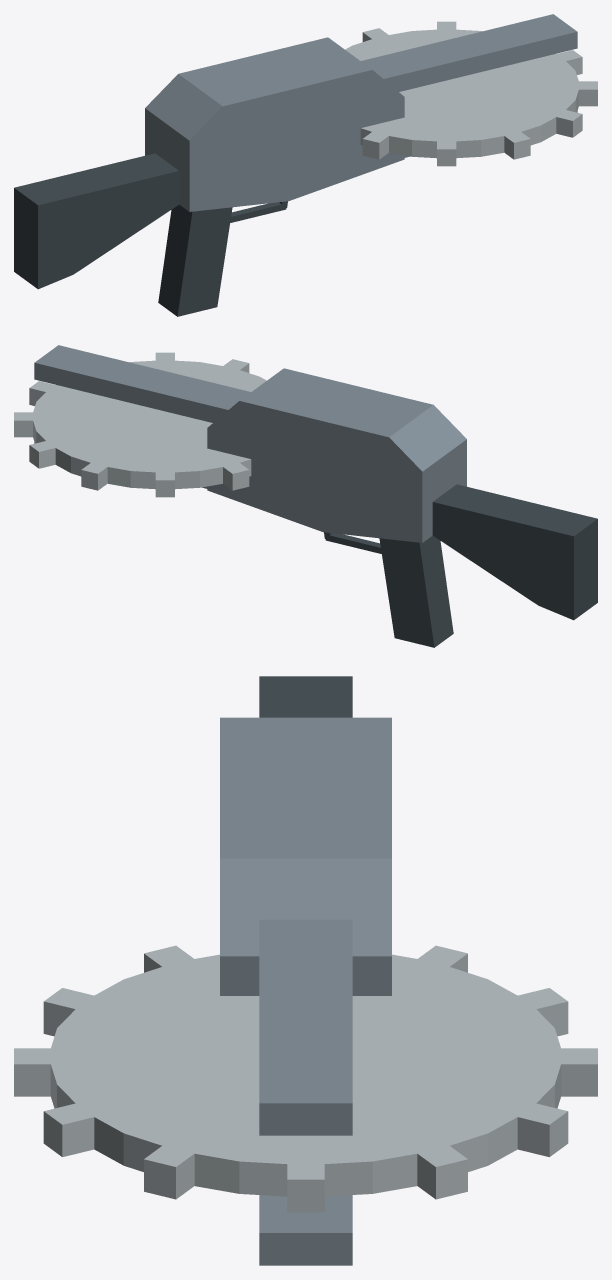
The model's file is w26-ricochet-gospel-static.glb.
The picture shows the model from 3 angles, top to bottom: view 1: azimuth 30°, elevation 25°; view 2: azimuth 150°, elevation 25°; view 3: azimuth 270°, elevation 25°; orthographic projection. The views are drawn at different scales.
Visible parts, largest first — view 1: w26-ricochet-gospel__receiver.001, w26-ricochet-gospel__saw_disc.001, w26-ricochet-gospel__stock.001, w26-ricochet-gospel__disc_guide_0.001, w26-ricochet-gospel__grip.001, w26-ricochet-gospel__saw_tooth_7.001, w26-ricochet-gospel__saw_tooth_10.001, w26-ricochet-gospel__saw_tooth_9.001, w26-ricochet-gospel__guard_bottom.001, w26-ricochet-gospel__saw_tooth_8.001, w26-ricochet-gospel__saw_tooth_11.001; view 2: w26-ricochet-gospel__receiver.001, w26-ricochet-gospel__saw_disc.001, w26-ricochet-gospel__stock.001, w26-ricochet-gospel__disc_guide_0.001, w26-ricochet-gospel__grip.001, w26-ricochet-gospel__saw_tooth_5.001, w26-ricochet-gospel__saw_tooth_3.001, w26-ricochet-gospel__saw_tooth_2.001, w26-ricochet-gospel__guard_bottom.001, w26-ricochet-gospel__saw_tooth_4.001, w26-ricochet-gospel__saw_tooth_1.001, w26-ricochet-gospel__saw_tooth_0.001; view 3: w26-ricochet-gospel__saw_disc.001, w26-ricochet-gospel__receiver.001, w26-ricochet-gospel__disc_guide_0.001, w26-ricochet-gospel__disc_guide_-0.001, w26-ricochet-gospel__stock.001, w26-ricochet-gospel__saw_tooth_1.001, w26-ricochet-gospel__saw_tooth_11.001, w26-ricochet-gospel__saw_tooth_2.001, w26-ricochet-gospel__saw_tooth_10.001, w26-ricochet-gospel__saw_tooth_3.001, w26-ricochet-gospel__saw_tooth_9.001, w26-ricochet-gospel__saw_tooth_0.001 (+4 smaller).
Boxes of the visible parts, <box> form: w26-ricochet-gospel__receiver.001: <box>145,37,404,211</box>; w26-ricochet-gospel__saw_disc.001: <box>345,29,579,158</box>; w26-ricochet-gospel__stock.001: <box>14,153,179,289</box>; w26-ricochet-gospel__disc_guide_0.001: <box>361,14,577,91</box>; w26-ricochet-gospel__grip.001: <box>158,204,232,316</box>; w26-ricochet-gospel__saw_tooth_7.001: <box>362,129,390,159</box>; w26-ricochet-gospel__saw_tooth_10.001: <box>543,110,582,137</box>; w26-ricochet-gospel__saw_tooth_9.001: <box>504,131,530,159</box>; w26-ricochet-gospel__guard_bottom.001: <box>230,202,286,222</box>; w26-ricochet-gospel__saw_tooth_8.001: <box>437,134,456,166</box>; w26-ricochet-gospel__saw_tooth_11.001: <box>579,81,597,106</box>; w26-ricochet-gospel__receiver.001: <box>207,368,466,542</box>; w26-ricochet-gospel__saw_disc.001: <box>32,360,266,489</box>; w26-ricochet-gospel__stock.001: <box>432,484,597,620</box>; w26-ricochet-gospel__disc_guide_0.001: <box>34,345,250,422</box>; w26-ricochet-gospel__grip.001: <box>379,535,453,647</box>; w26-ricochet-gospel__saw_tooth_5.001: <box>222,461,249,490</box>; w26-ricochet-gospel__saw_tooth_3.001: <box>81,463,107,490</box>; w26-ricochet-gospel__saw_tooth_2.001: <box>29,441,55,468</box>; w26-ricochet-gospel__guard_bottom.001: <box>325,533,381,553</box>; w26-ricochet-gospel__saw_tooth_4.001: <box>155,472,174,497</box>; w26-ricochet-gospel__saw_tooth_1.001: <box>14,412,47,437</box>; w26-ricochet-gospel__saw_tooth_0.001: <box>29,381,69,405</box>; w26-ricochet-gospel__saw_disc.001: <box>48,954,563,1196</box>; w26-ricochet-gospel__receiver.001: <box>220,717,391,995</box>; w26-ricochet-gospel__disc_guide_0.001: <box>259,919,352,1135</box>; w26-ricochet-gospel__disc_guide_-0.001: <box>259,1195,352,1265</box>; w26-ricochet-gospel__stock.001: <box>259,676,352,717</box>; w26-ricochet-gospel__saw_tooth_1.001: <box>403,1134,467,1199</box>; w26-ricochet-gospel__saw_tooth_11.001: <box>144,1134,209,1199</box>; w26-ricochet-gospel__saw_tooth_2.001: <box>493,1098,568,1157</box>; w26-ricochet-gospel__saw_tooth_10.001: <box>43,1102,115,1157</box>; w26-ricochet-gospel__saw_tooth_3.001: <box>529,1048,597,1096</box>; w26-ricochet-gospel__saw_tooth_9.001: <box>14,1048,82,1096</box>; w26-ricochet-gospel__saw_tooth_0.001: <box>287,1156,324,1212</box>.
Size of the model in its own units: 0.8588 by 0.315 by 0.408.
